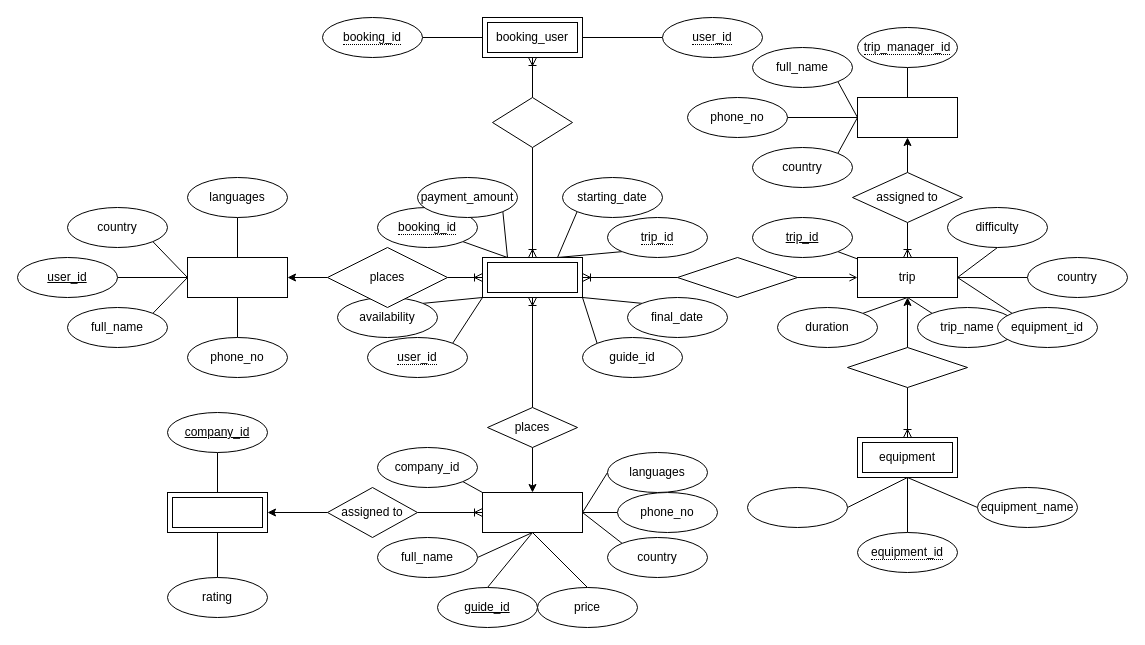
The diagram is 1145 pixels wide and 645 high, and some of its shapes have lost their labels. Here are the shapes that lost their labels. From the top down, the box of each, then its label:
(492, 96, 572, 148): related to
(856, 96, 958, 138): trip_manager
(186, 256, 288, 298): user
(482, 256, 582, 298): bookings
(676, 256, 798, 298): type of
(846, 346, 968, 388): has
(166, 492, 268, 532): travel_company
(482, 492, 582, 532): guide
(746, 486, 848, 528): rental_cost
